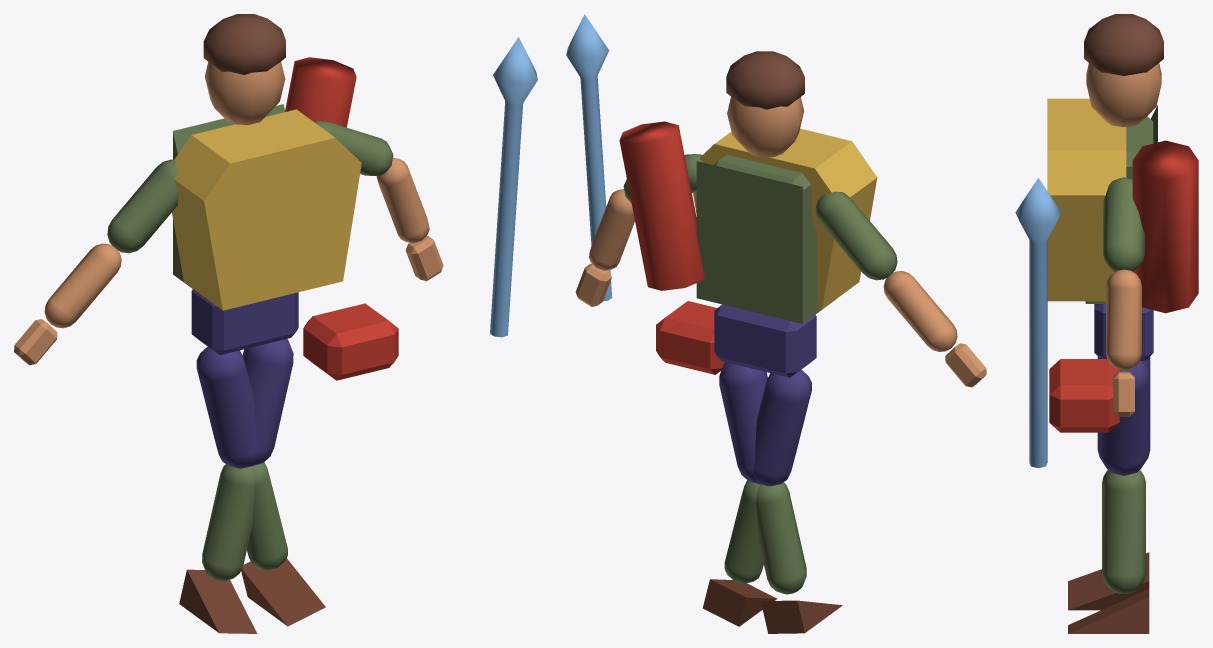
Rendered from adventurer.rustic.glb.
The picture shows the model from 3 angles, left to right: view 1: azimuth 30°, elevation 25°; view 2: azimuth 150°, elevation 25°; view 3: azimuth 270°, elevation 25°; orthographic projection. The views are drawn at different scales.
Visible parts, largest first — view 1: accessory.body, accessory.main-hand, accessory.waist, thigh.left, pelvis, shin.right, hair, thigh.right, accessory.back, upper-arm.left, head, forearm.left (+8 smaller); view 2: tunic, accessory.back, accessory.body, pelvis, thigh.left, accessory.main-hand, shin.right, upper-arm.left, hair, accessory.waist, thigh.right, head (+8 smaller); view 3: accessory.body, accessory.back, accessory.main-hand, shin.left, accessory.waist, hair, head, thigh.right, forearm.right, upper-arm.right, foot.left, foot.right (+3 smaller).
Boxes of the visible parts, box(x1,y1,x2,y2) form: accessory.body: box(172, 109, 361, 310); accessory.main-hand: box(490, 37, 537, 337); accessory.waist: box(303, 303, 398, 380); thigh.left: box(196, 346, 256, 468); pelvis: box(191, 289, 298, 354); shin.right: box(202, 464, 254, 581); hair: box(203, 14, 285, 74); thigh.right: box(242, 339, 293, 465); accessory.back: box(285, 57, 356, 127); upper-arm.left: box(107, 159, 178, 253); head: box(204, 61, 285, 124); forearm.left: box(44, 243, 121, 328); tunic: box(696, 161, 836, 323); accessory.back: box(619, 121, 704, 290); accessory.body: box(693, 128, 877, 309); pelvis: box(714, 304, 816, 377); thigh.left: box(754, 369, 811, 486); accessory.main-hand: box(566, 14, 612, 301); shin.right: box(756, 482, 806, 594); upper-arm.left: box(815, 191, 897, 280); hair: box(726, 51, 804, 109); accessory.waist: box(656, 301, 724, 374); thigh.right: box(719, 362, 767, 483); head: box(727, 97, 803, 157); accessory.body: box(1047, 98, 1126, 301); accessory.back: box(1132, 140, 1198, 313); accessory.main-hand: box(1015, 178, 1061, 468); shin.left: box(1102, 471, 1145, 593); accessory.waist: box(1049, 359, 1119, 432); hair: box(1084, 14, 1163, 75); head: box(1086, 63, 1161, 127); thigh.right: box(1097, 361, 1150, 475); forearm.right: box(1106, 269, 1141, 370); upper-arm.right: box(1103, 177, 1144, 272); foot.left: box(1068, 589, 1149, 633); foot.right: box(1068, 552, 1149, 610).
Size of the model in its own units: 2.54 by 3.01 by 0.8353.
